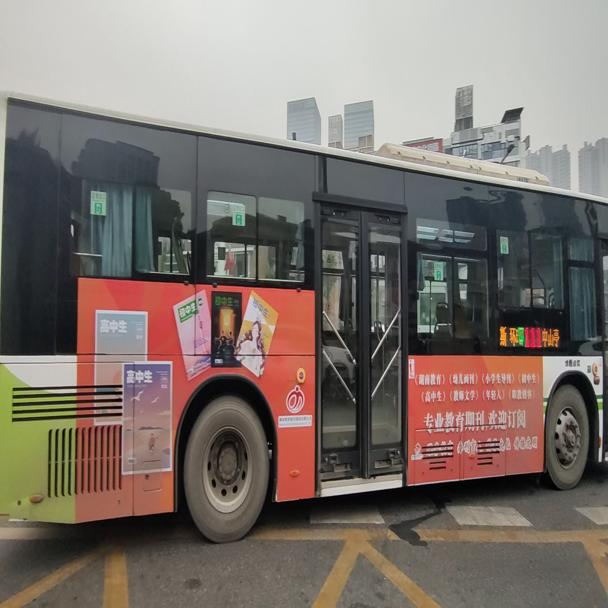bus: (0, 86, 604, 547)
screen: (522, 326, 541, 347)
